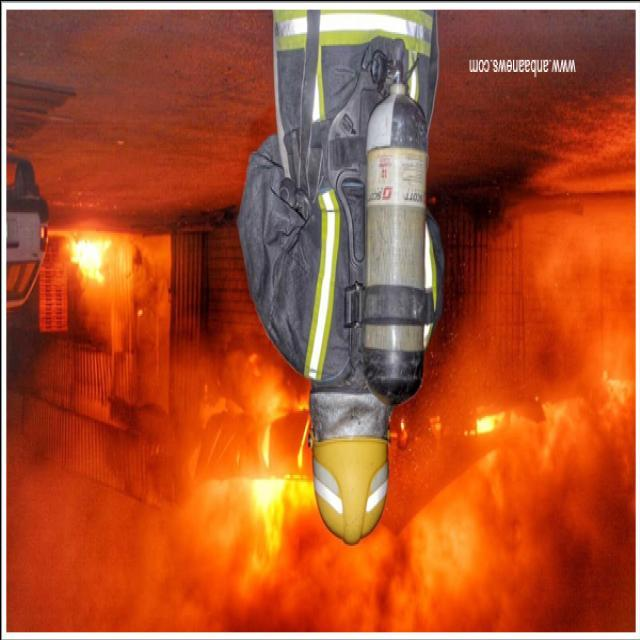Fire: (194, 373, 624, 614), (62, 230, 115, 291)
